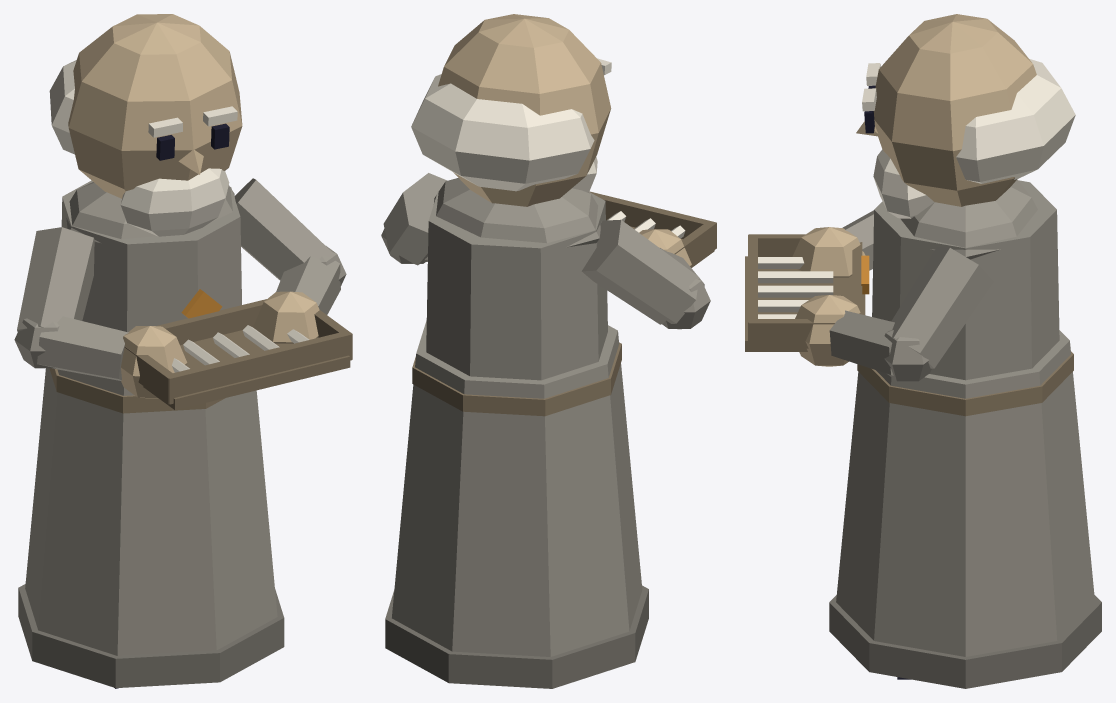
Rendered from keeper_brother.glb.
The picture shows the model from 3 angles, left to right: view 1: azimuth 30°, elevation 25°; view 2: azimuth 150°, elevation 25°; view 3: azimuth 270°, elevation 25°; orthographic projection.
Visible parts, largest first — view 1: Torso, Head, ArmR, ArmL; view 2: Torso, Head, ArmR, ArmL; view 3: Torso, Head, ArmL, ArmR.
Boxes of the visible parts, box(x1,y1,x2,y2) form: Torso: box(18, 180, 352, 688); Head: box(49, 14, 242, 236); ArmR: box(14, 227, 187, 398); ArmL: box(235, 178, 346, 343); Torso: box(385, 178, 716, 688); Head: box(411, 14, 611, 206); ArmR: box(581, 219, 710, 329); ArmL: box(381, 173, 447, 265); Torso: box(745, 179, 1101, 688); Head: box(856, 14, 1075, 218); ArmL: box(795, 247, 994, 381); ArmR: box(792, 210, 873, 277).
Bounding box in the file's own units: 0.8668 × 1.65 × 0.8544.
